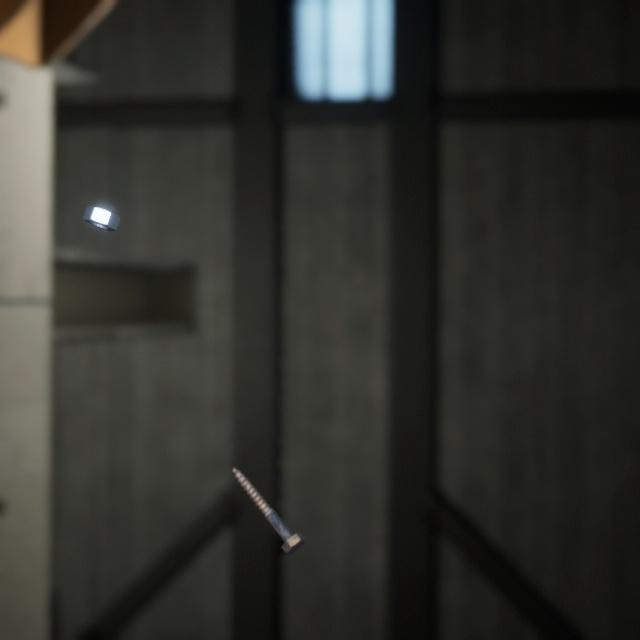bolt: (228, 440, 310, 536)
nut: (78, 186, 124, 220)
